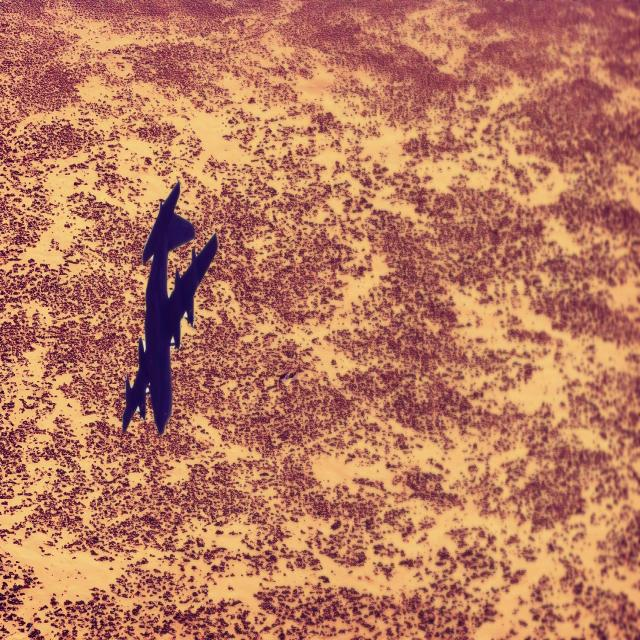airplane: (121, 180, 218, 436)
